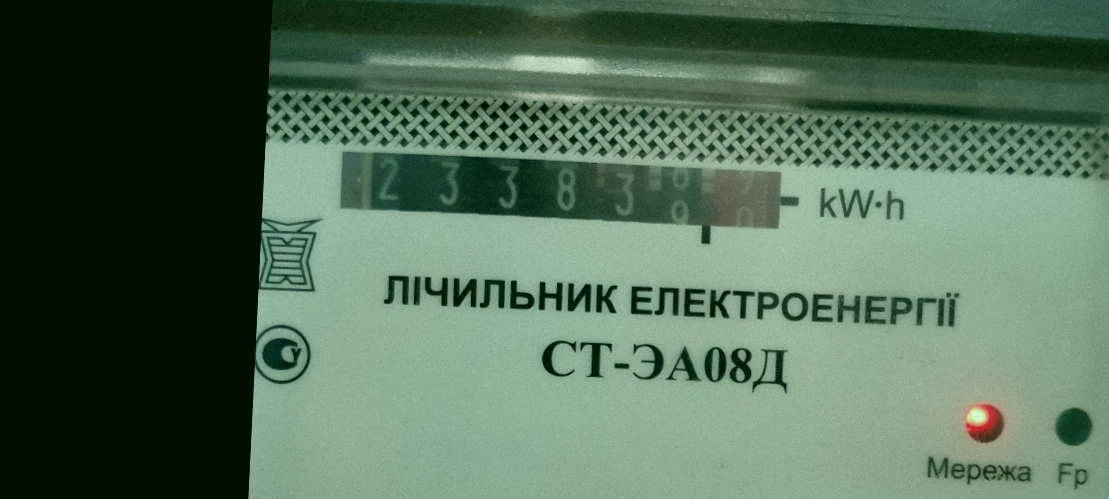0: (734, 203, 757, 230)
2: (377, 155, 403, 203)
3: (434, 157, 465, 207), (492, 161, 523, 211), (612, 170, 638, 217)
8: (552, 166, 581, 213), (669, 165, 693, 193)
9: (735, 167, 758, 198), (669, 197, 691, 227)
screen: (327, 139, 804, 252)
